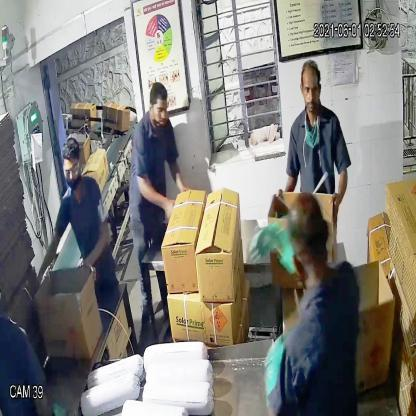goggles: (59, 158, 84, 183)
no_goggles: (295, 79, 327, 102)
